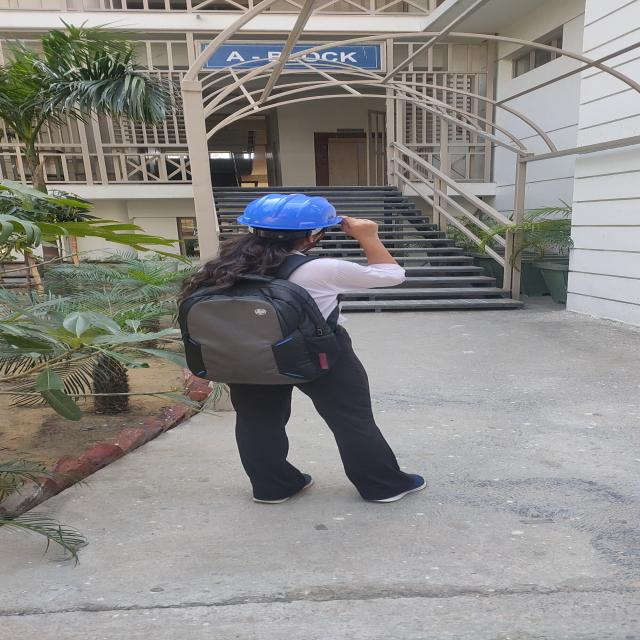no jacket: (180, 195, 405, 502)
